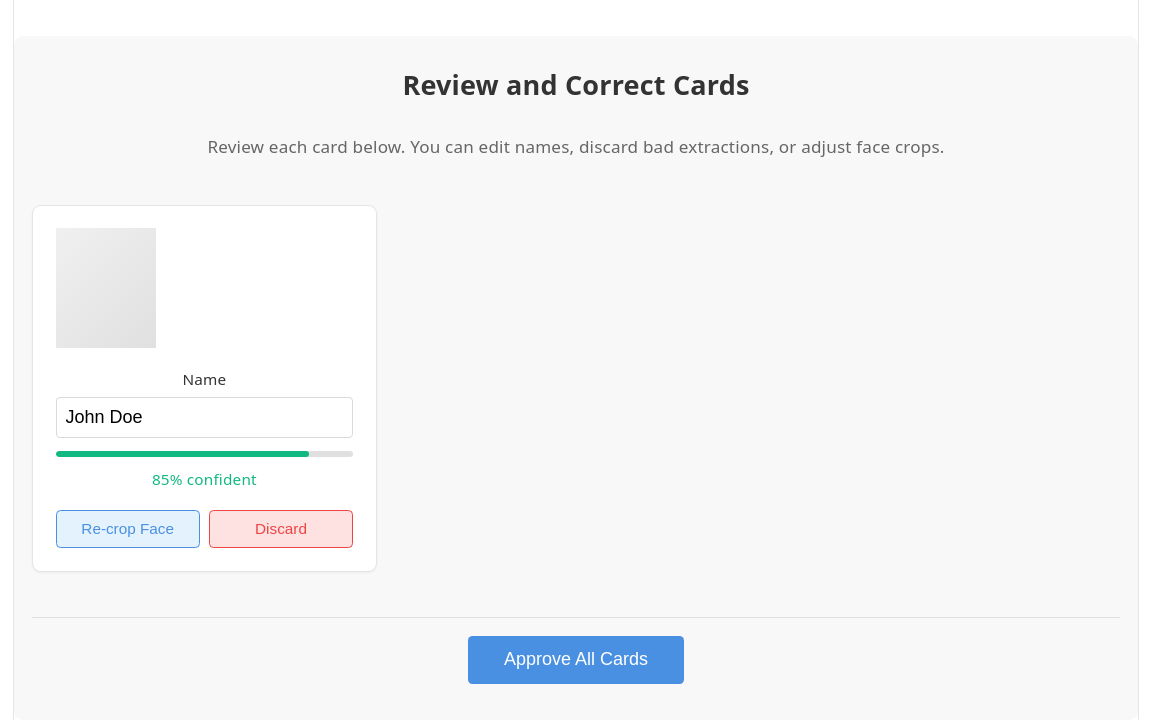
ExtractionReview › face crop editor › opens face crop editor modal when re-crop button clicked
Click the button "Re-crop Face" at coordinates (128, 529), box [56,510,200,548]
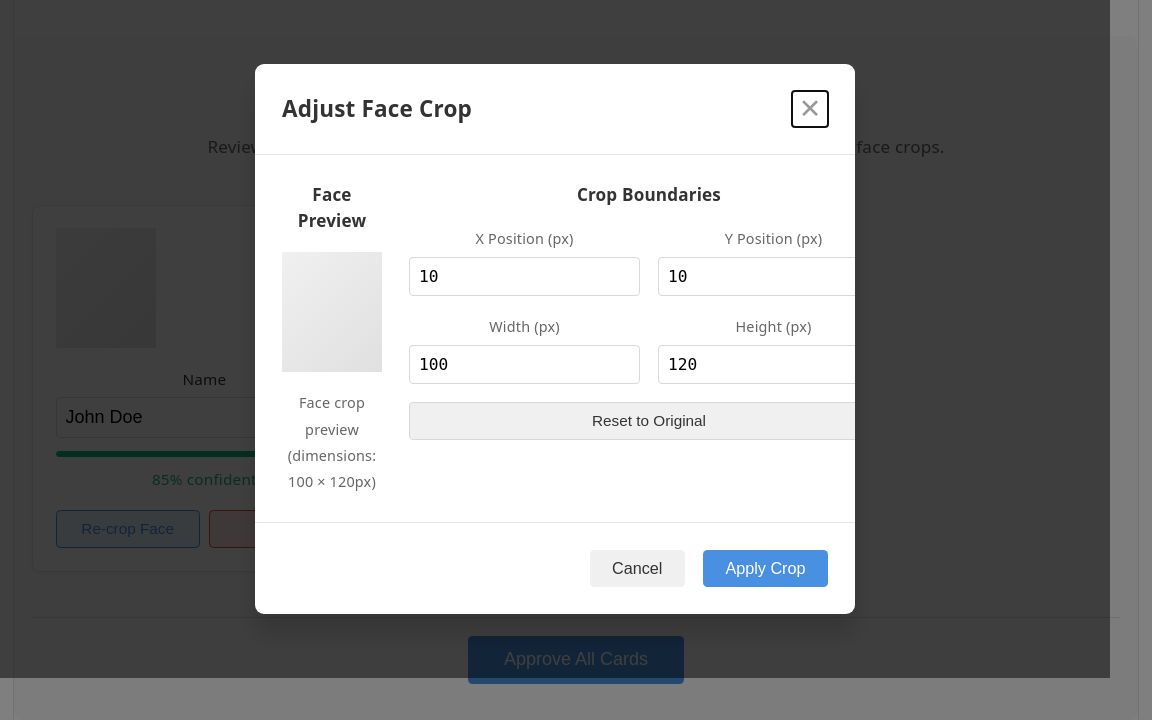
Expected: the dialog with class "face-crop-editor-dialog" is shown
